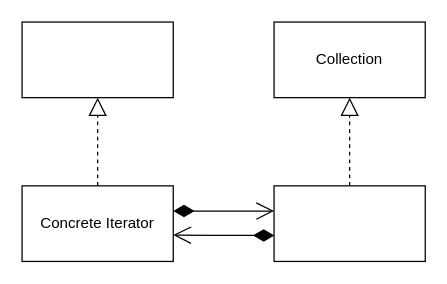
This 447x284 diagram has some shape labels left out. Here are the shapes that lost their labels. From the top down, the box of each, then its label:
(21, 21, 173, 98): Iterator Interface
(273, 185, 425, 261): Concrete Collection
